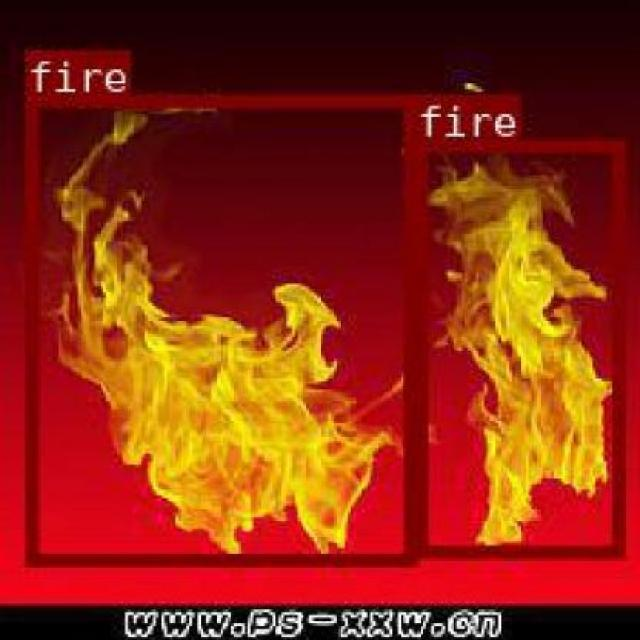Fire: (23, 93, 414, 564), (412, 138, 623, 556)
